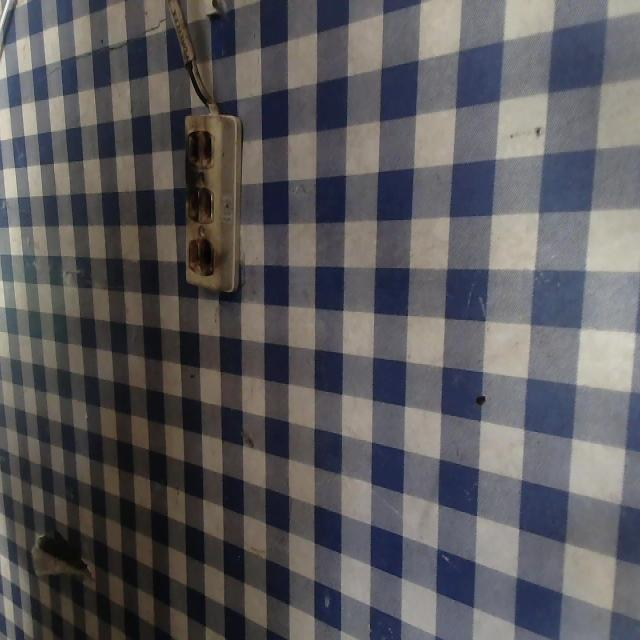-: (176, 127, 222, 176), (178, 223, 218, 277), (182, 176, 219, 231)
